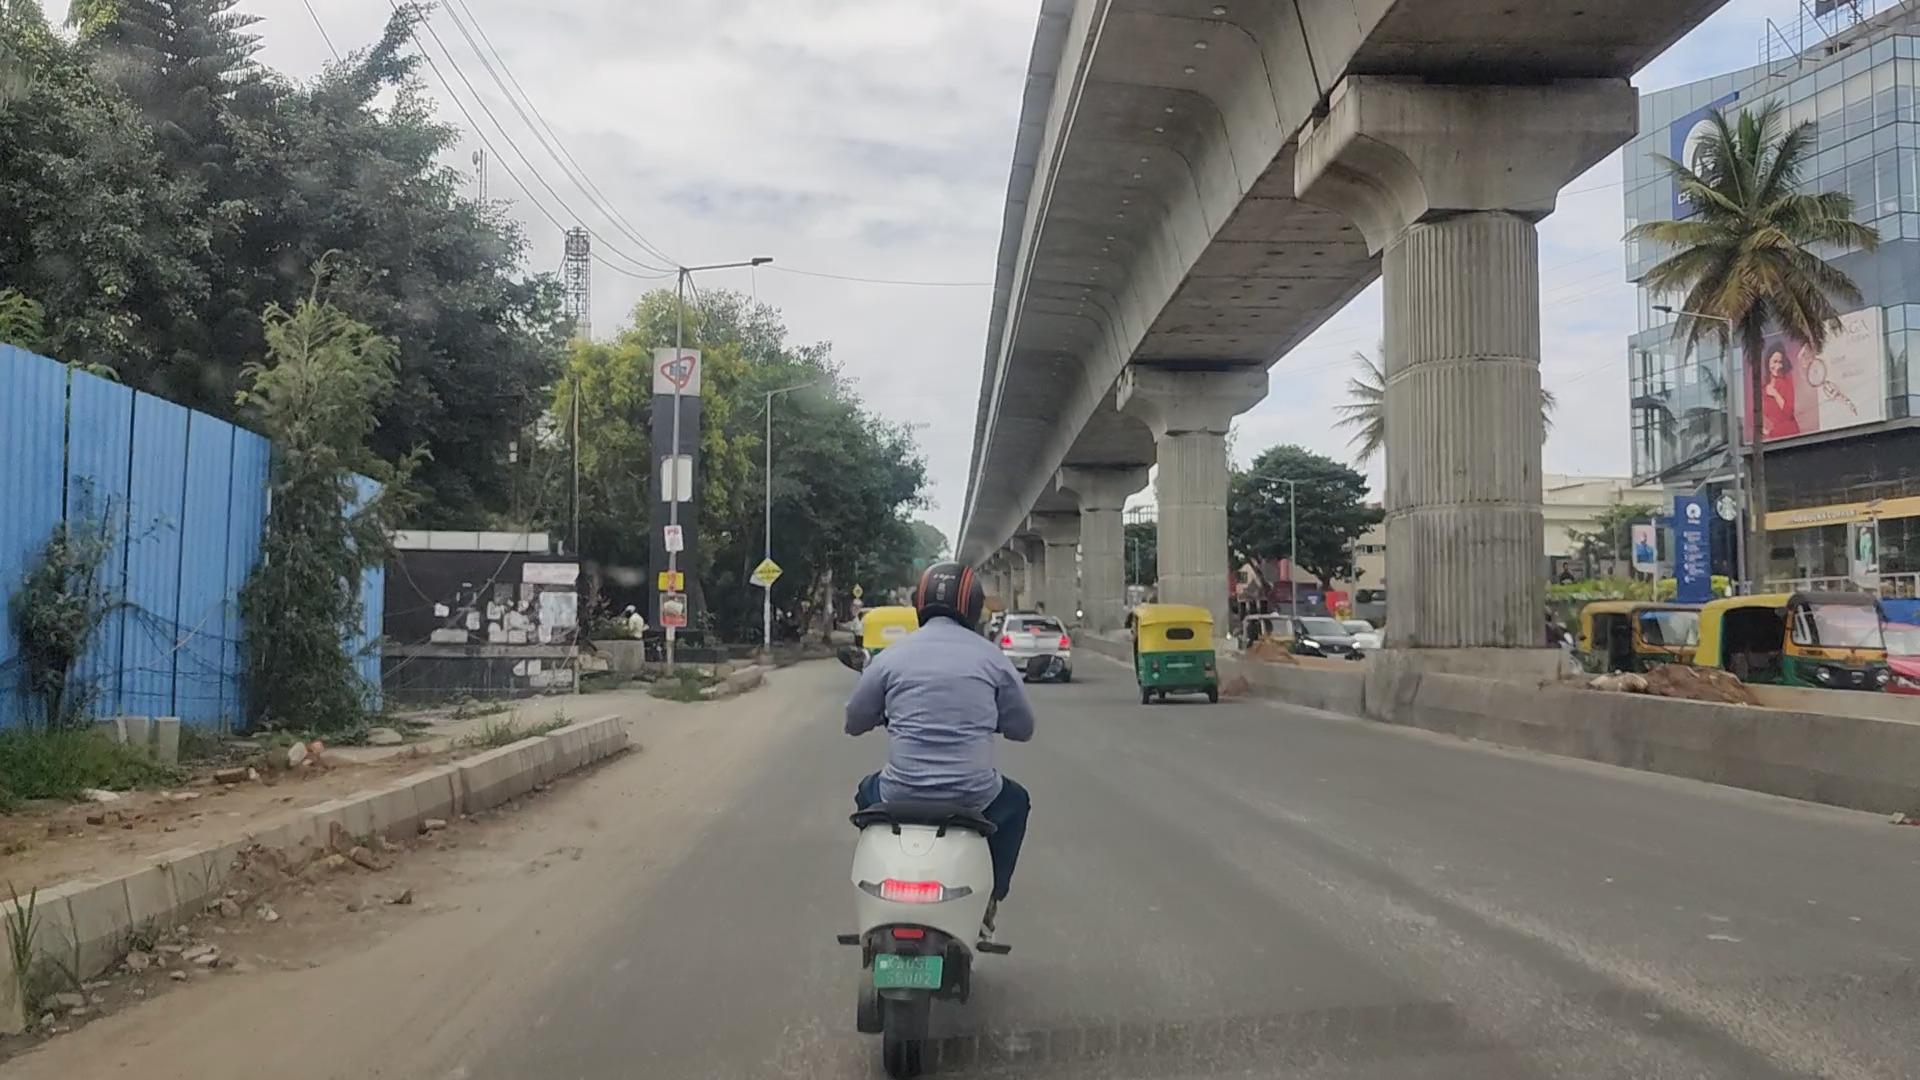LMV: (828, 525, 1011, 1080), (1138, 592, 1222, 700), (993, 603, 1077, 683)
